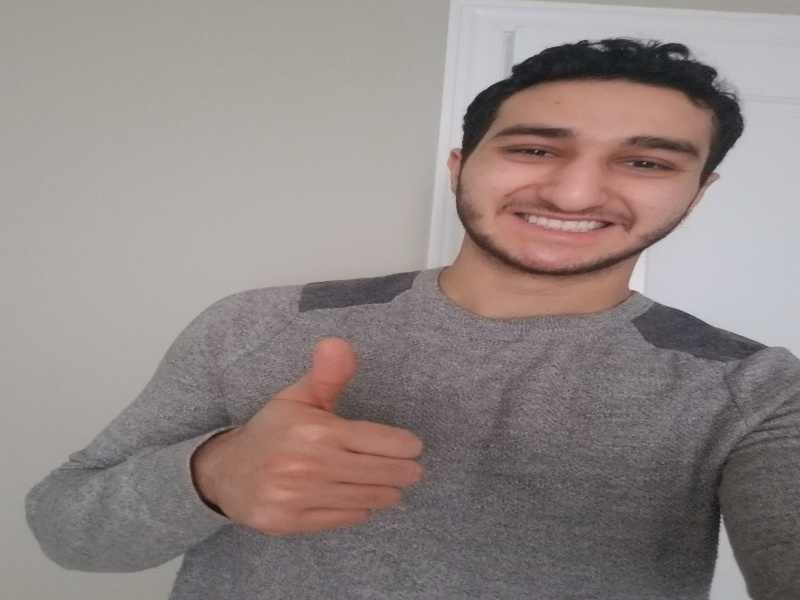smile: (455, 80, 708, 274)
thumbup: (218, 338, 429, 539)
